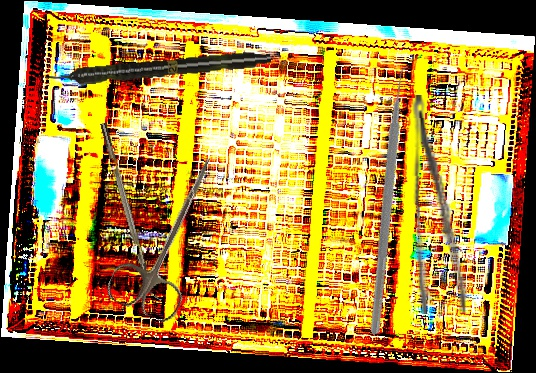Chopper: (273, 59, 520, 336), (100, 120, 163, 304)
Dressing Forceps: (409, 93, 468, 315)
Handpiece: (44, 48, 272, 88)
Iris Scissors: (103, 142, 239, 326)
